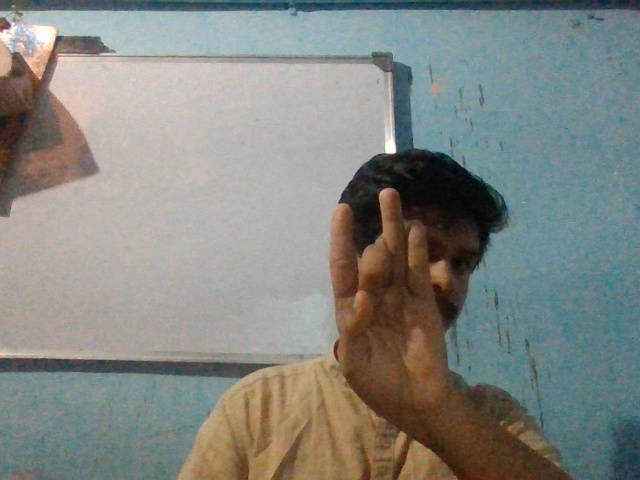Akash: (314, 198, 467, 418)
